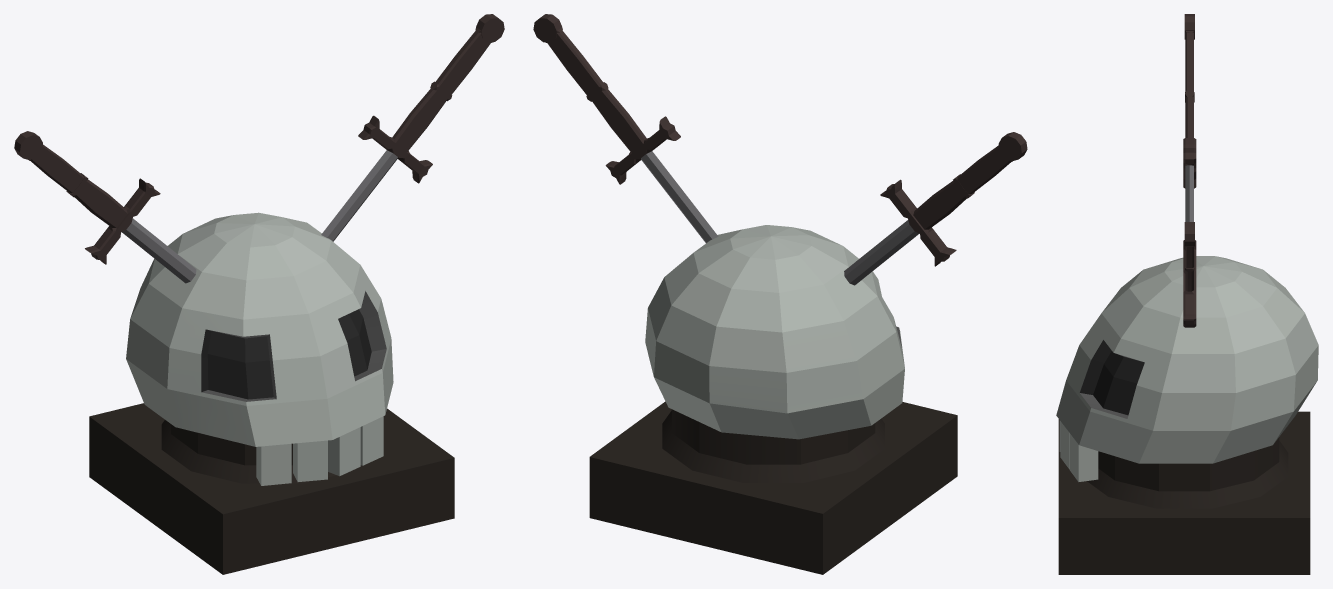
File: Estatua Demonio.fbx
3 views of the same model, side by side, from view 1: azimuth 30°, elevation 25°; view 2: azimuth 150°, elevation 25°; view 3: azimuth 270°, elevation 25° (orthographic). The views are drawn at different scales.
Visible parts, largest first — view 1: Espada2; view 2: Espada2; view 3: Espada2.
Part boxes in pixels (x1,y1,x2,y2): Espada2: (14, 14, 504, 574); Espada2: (533, 14, 1027, 574); Espada2: (1056, 14, 1318, 574).
Bounding box in the file's own units: 4.19 × 3.51 × 2.09.
